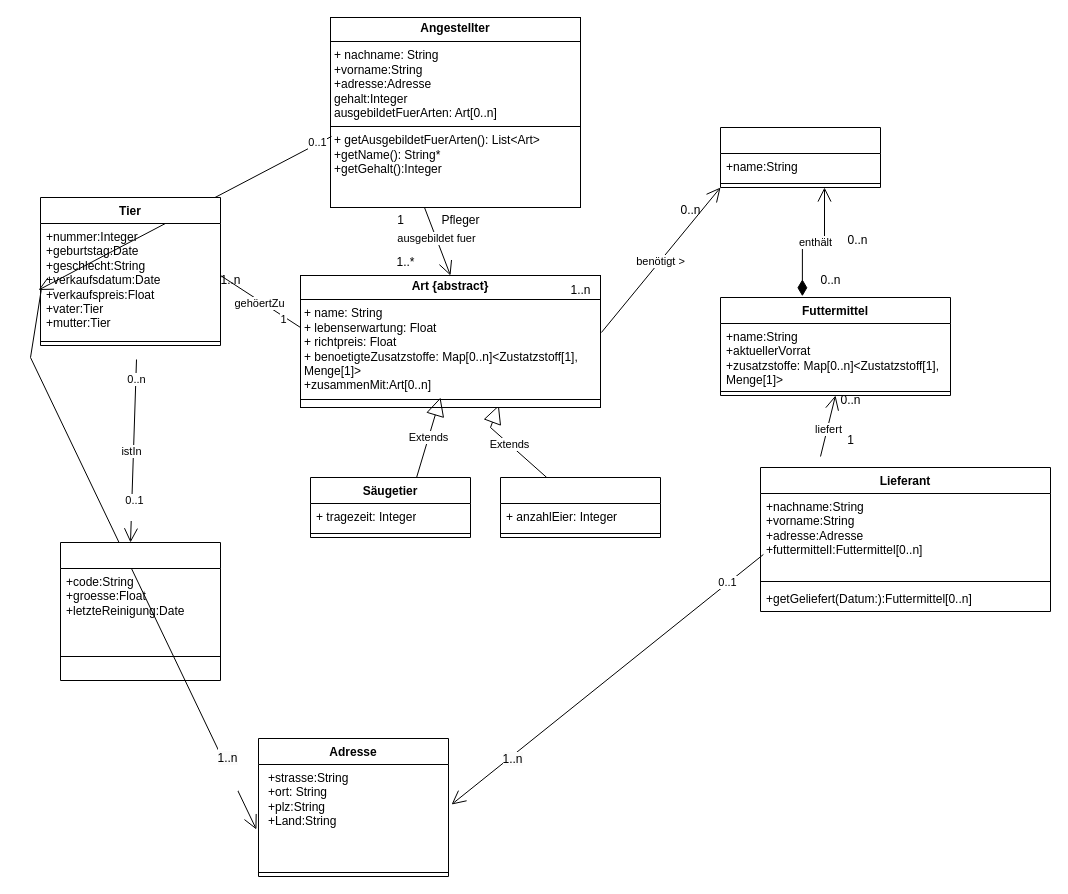
Image size: 1068x894. Some labels were removed from this diagram. The box of each missing label's shape, as (x1, y1, x2, y2) in pixels:
Käfig: (60, 542, 220, 680)
Reptil: (500, 476, 660, 538)
Zusatzstoff: (720, 126, 880, 188)
